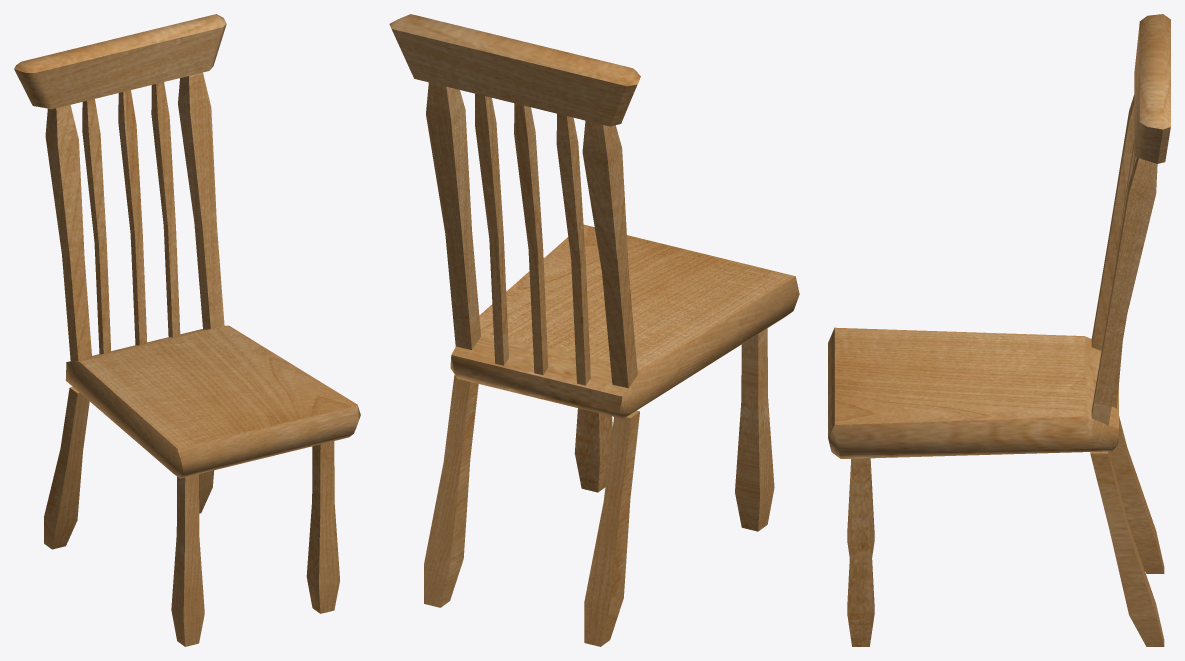
Rendered from ChairI_vi.fbx.
3 views of the same model, side by side, from view 1: azimuth 30°, elevation 25°; view 2: azimuth 150°, elevation 25°; view 3: azimuth 270°, elevation 25° (orthographic). The views are drawn at different scales.
Parts seen in each view (by area): view 1: ChairI; view 2: ChairI; view 3: ChairI.
Boxes of the visible parts, left/top/right/bottom form: ChairI: left=14, top=14, right=360, bottom=646; ChairI: left=389, top=14, right=799, bottom=646; ChairI: left=828, top=14, right=1170, bottom=646.
Size of the model in its own units: 0.00682 by 0.0152 by 0.00873.
Materials: 1 (1 with a texture image).
